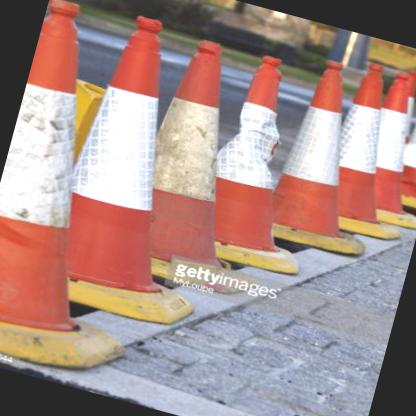cone: (0, 0, 205, 380), (43, 9, 268, 330), (126, 34, 289, 292), (197, 49, 351, 278), (262, 54, 404, 256), (317, 60, 415, 242), (356, 69, 415, 230)
